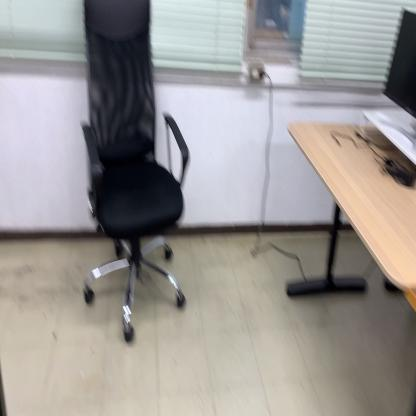chair: (78, 0, 193, 351)
